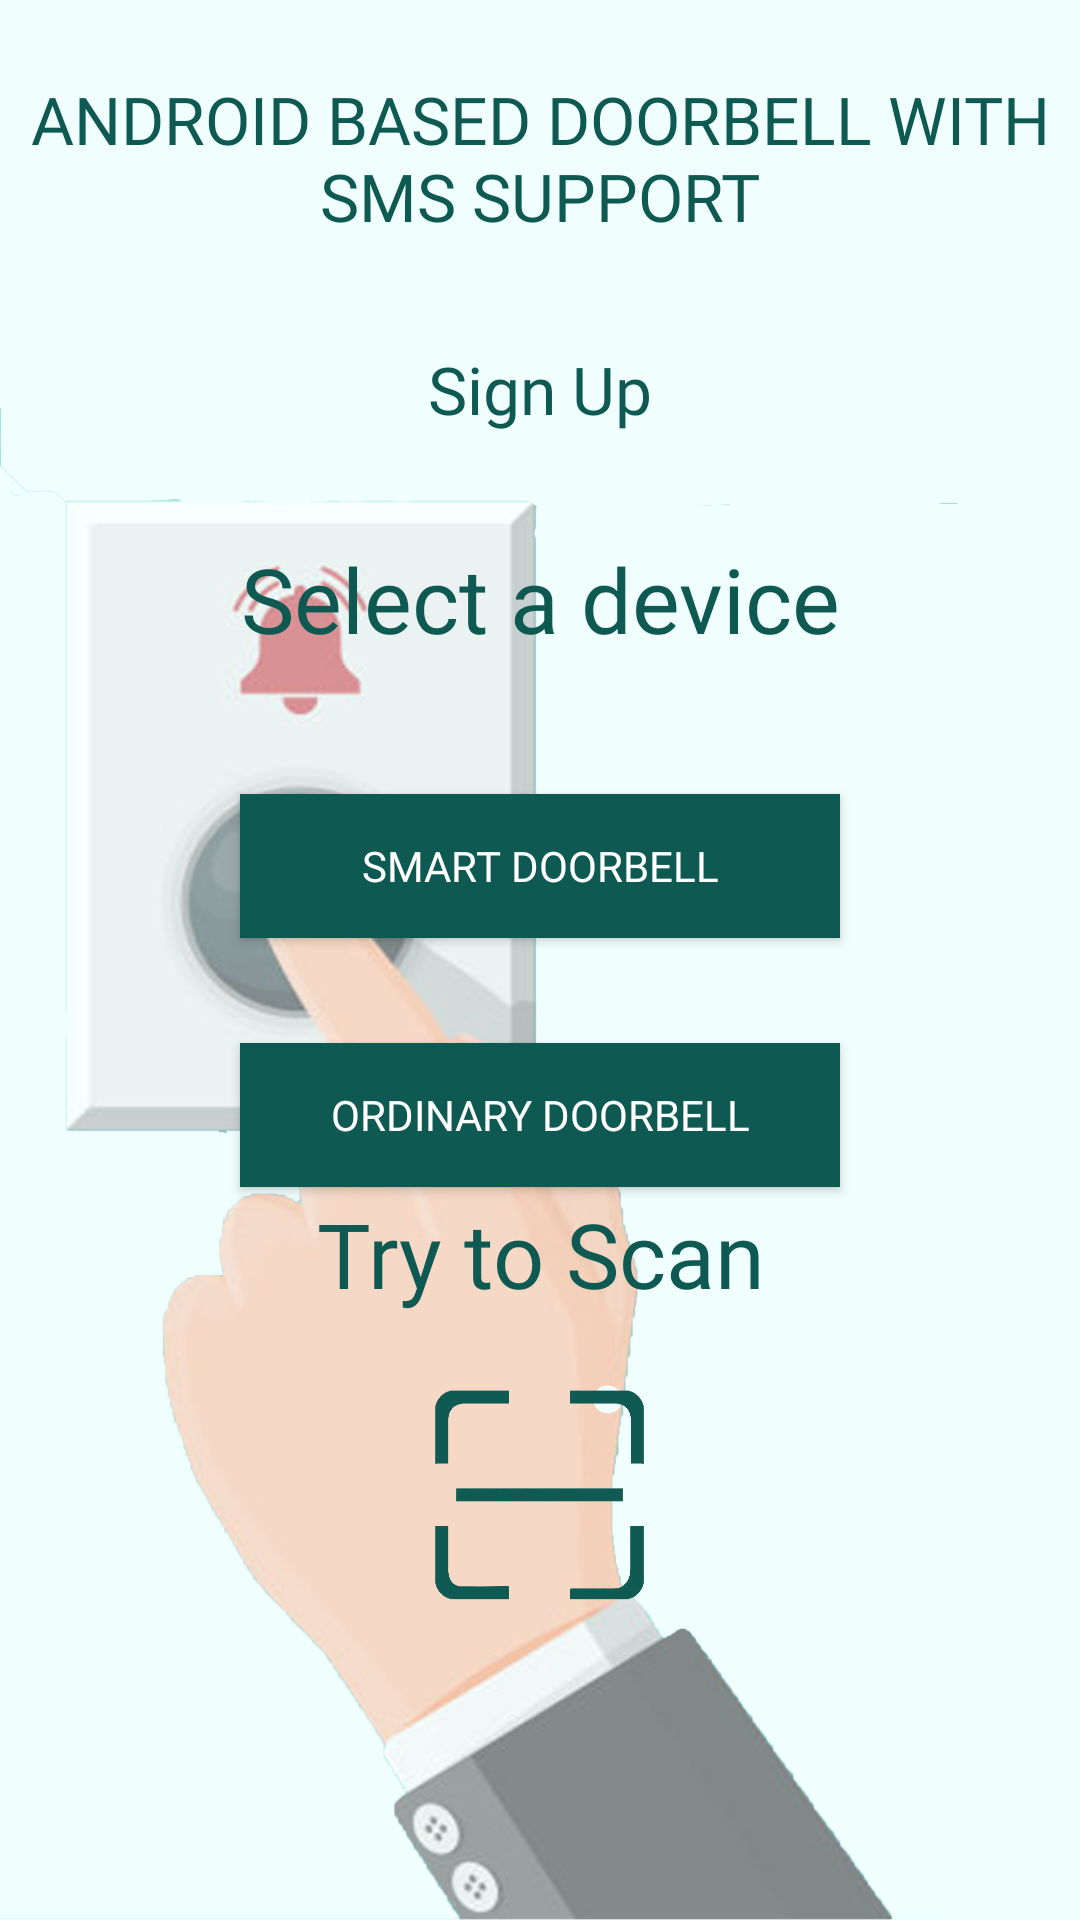

Locate icon controls on the screen. Image size 1080px x 1920px, boxes as (x1, y1, x2, y2).
scanner: (435, 1380, 660, 1620)
